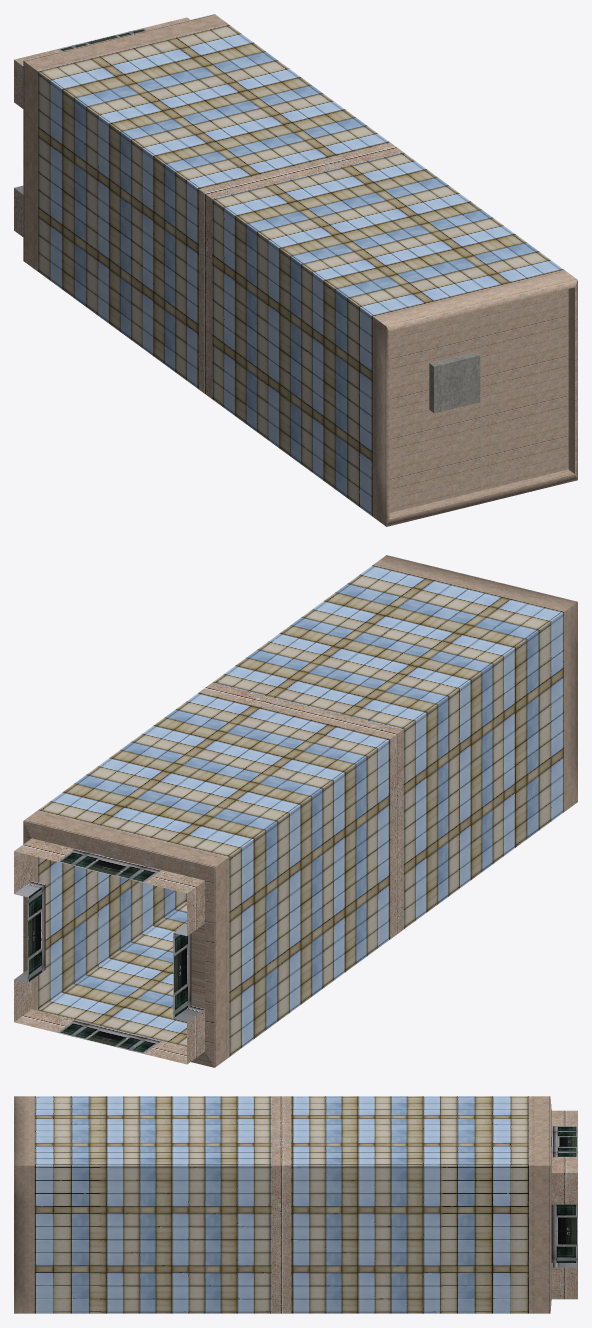
Rendered from skyscraper_windowA_03.obj.
3 renders of one model, top to bottom at view 1: azimuth 30°, elevation 25°; view 2: azimuth 150°, elevation 25°; view 3: azimuth 270°, elevation 25°, orthographic. The views are drawn at different scales.
Parts seen in each view (by area): view 1: Object20; view 2: Object20; view 3: Object20.
Part boxes in pixels (box(x1,y1,x2,y2)): Object20: box(14, 14, 577, 526); Object20: box(14, 555, 577, 1067); Object20: box(14, 1096, 577, 1313).
Bounding box in the file's own units: 40 × 40 × 138.
Materials: 4 (4 with a texture image).
